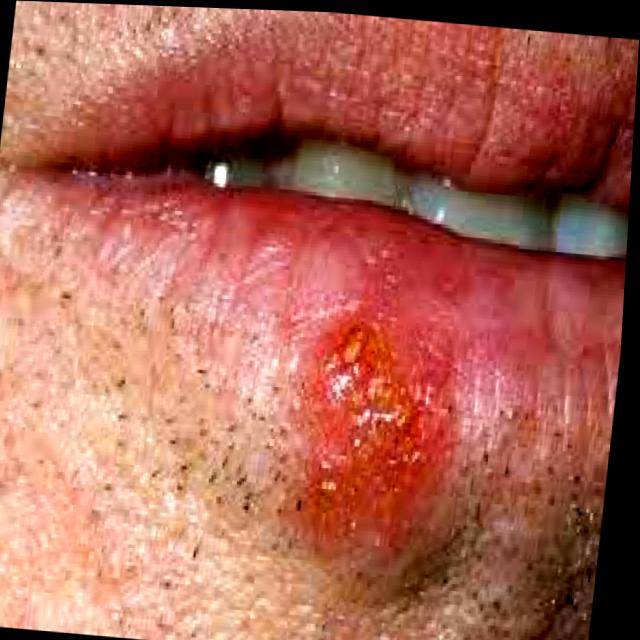ulcer: (304, 312, 450, 533)
